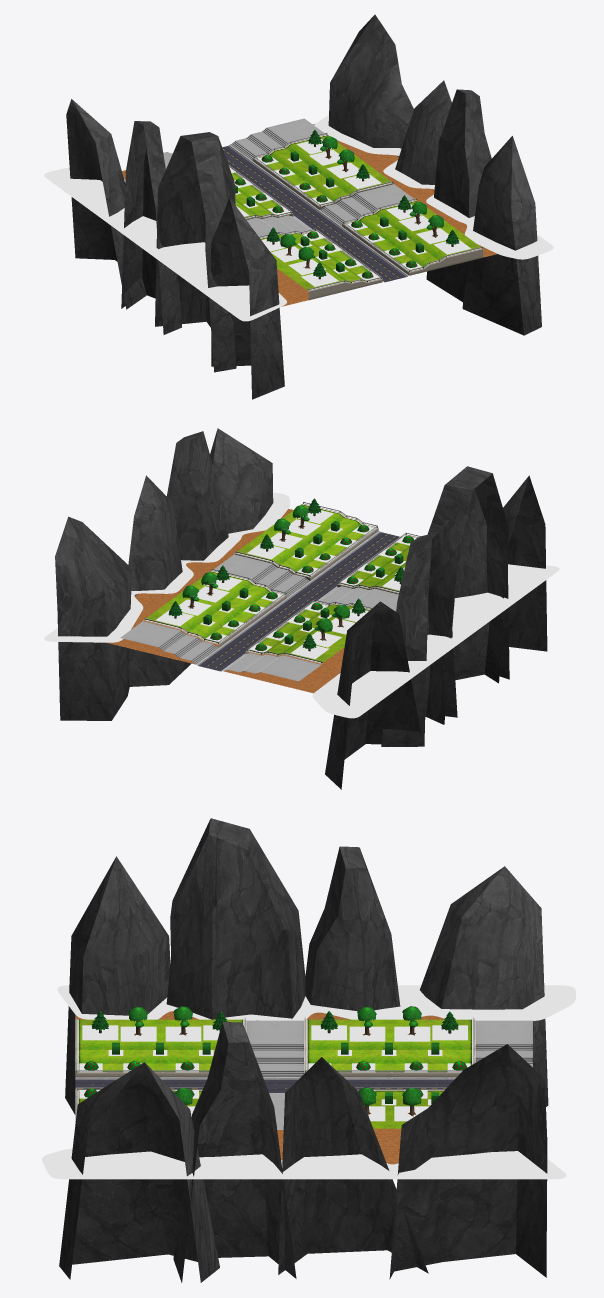
File: Mexico_04.fbx
3 renders of one model, top to bottom at view 1: azimuth 30°, elevation 25°; view 2: azimuth 150°, elevation 25°; view 3: azimuth 270°, elevation 25°, orthographic. The views are drawn at different scales.
Visible parts, largest first — view 1: Mexico_04; view 2: Mexico_04; view 3: Mexico_04.
Boxes of the visible parts, left/top/right/bottom form: Mexico_04: left=44, top=14, right=553, bottom=399; Mexico_04: left=44, top=428, right=559, bottom=789; Mexico_04: left=42, top=818, right=575, bottom=1282.
Bounding box in the file's own units: 22617 × 13384 × 25170.
9 materials, 9 textured.
